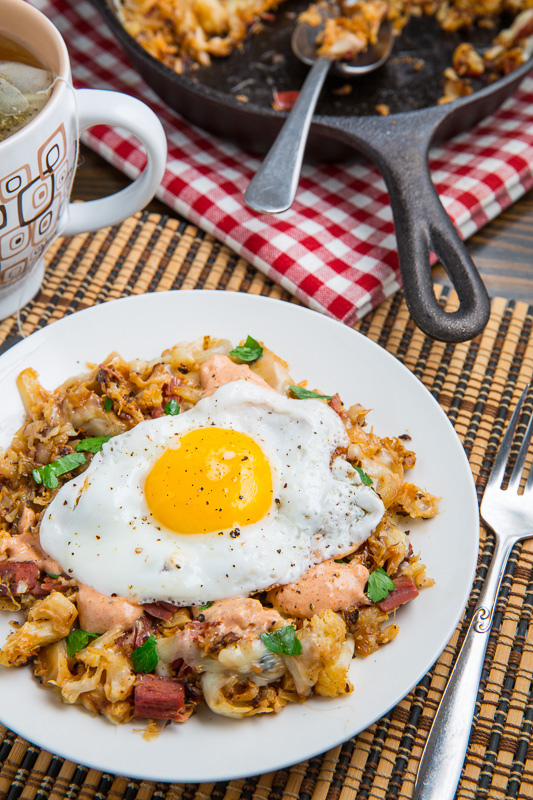fried egg: (47, 411, 345, 598)
